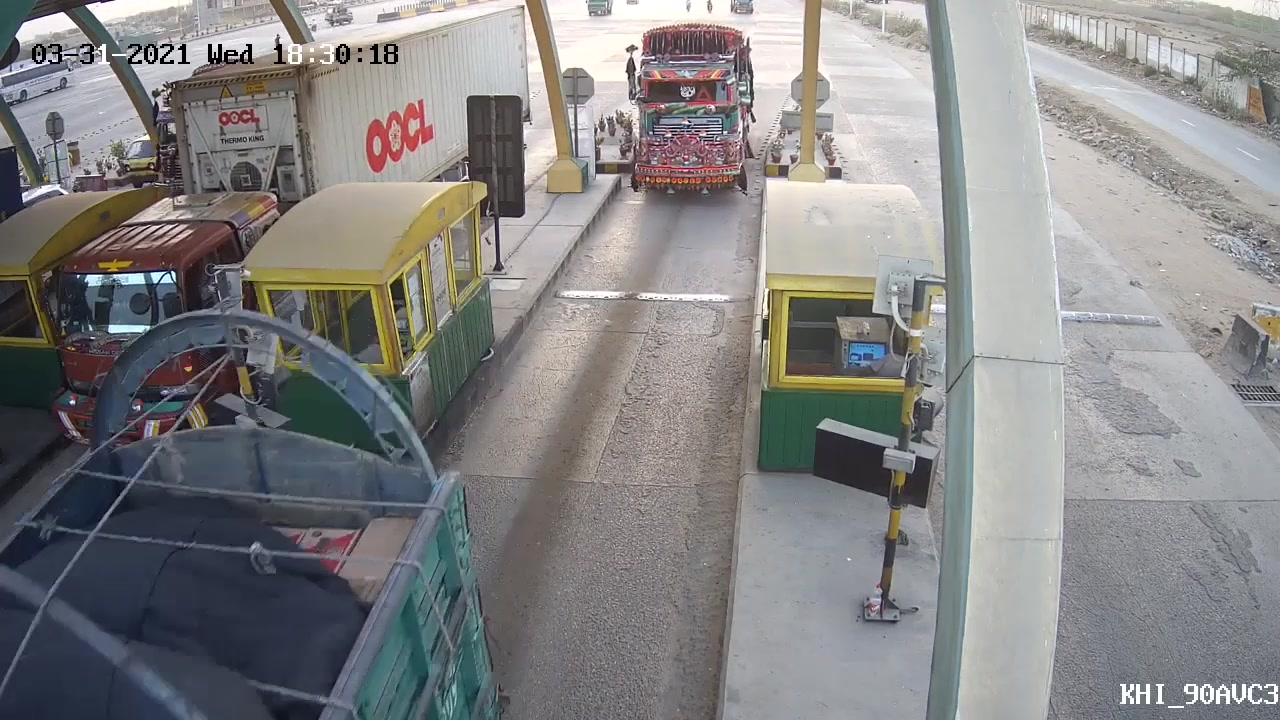F5: (615, 27, 757, 210)
